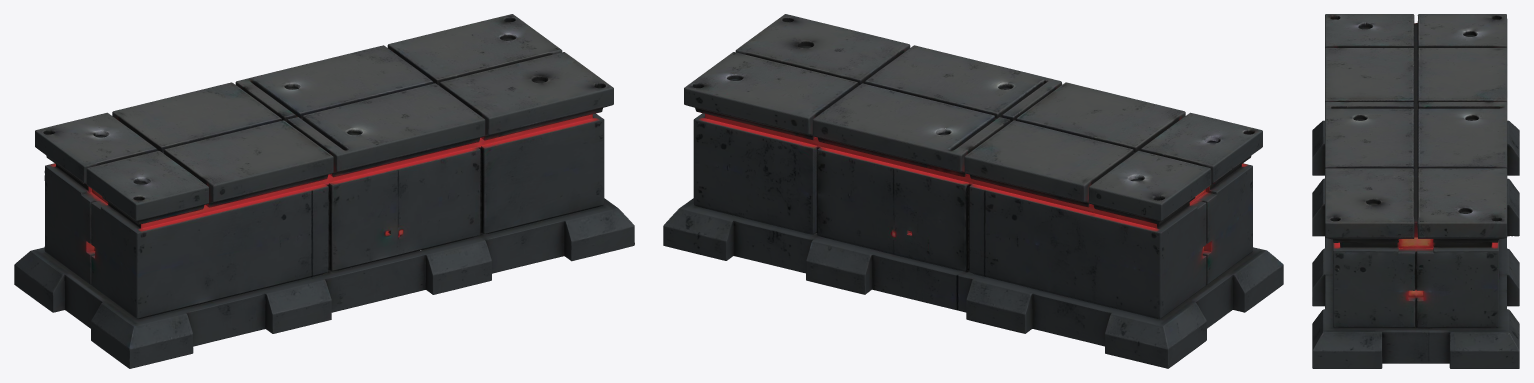
Rendered from barrera.glb.
The picture shows the model from 3 angles, left to right: view 1: azimuth 30°, elevation 25°; view 2: azimuth 150°, elevation 25°; view 3: azimuth 270°, elevation 25°; orthographic projection. The views are drawn at different scales.
Visible parts, largest first — view 1: tripo_node_ae050a83-a8ba-4c8a-a14e-86bd0d39fb1d; view 2: tripo_node_ae050a83-a8ba-4c8a-a14e-86bd0d39fb1d; view 3: tripo_node_ae050a83-a8ba-4c8a-a14e-86bd0d39fb1d.
Part boxes in pixels (bbox=[...]): tripo_node_ae050a83-a8ba-4c8a-a14e-86bd0d39fb1d: bbox=[14, 14, 634, 368]; tripo_node_ae050a83-a8ba-4c8a-a14e-86bd0d39fb1d: bbox=[663, 14, 1283, 368]; tripo_node_ae050a83-a8ba-4c8a-a14e-86bd0d39fb1d: bbox=[1312, 14, 1519, 368].
Bounding box in the file's own units: 1 × 0.2964 × 0.3969.
1 material, 1 textured.
